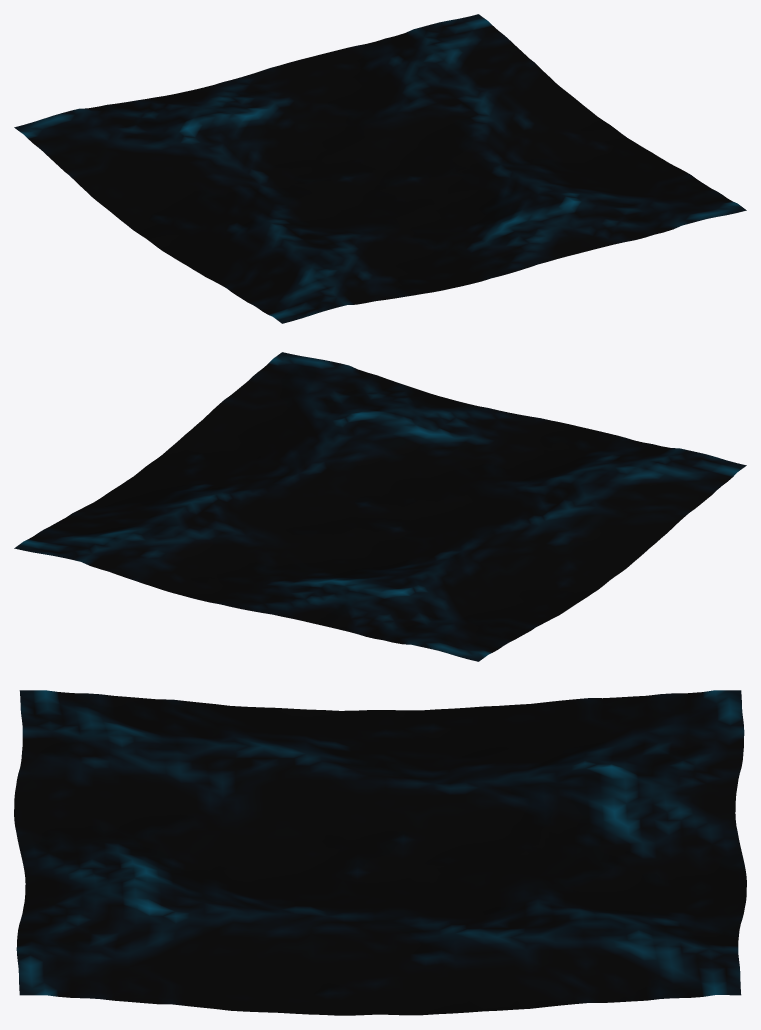
Rendered from Sea(6).glb.
3 renders of one model, top to bottom at view 1: azimuth 30°, elevation 25°; view 2: azimuth 150°, elevation 25°; view 3: azimuth 270°, elevation 25°, orthographic. The views are drawn at different scales.
Parts seen in each view (by area): view 1: Sea; view 2: Sea; view 3: Sea.
Boxes of the visible parts, left/top/right/bottom form: Sea: left=14, top=14, right=746, bottom=323; Sea: left=14, top=352, right=746, bottom=661; Sea: left=14, top=690, right=746, bottom=1015.
Bounding box in the file's own units: 50.33 × 1.96 × 50.8.
